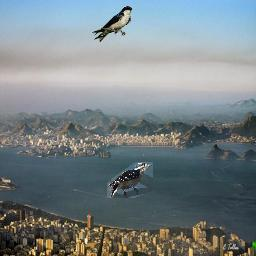Swallow: (91, 6, 132, 42)
Woodpecker: (107, 162, 153, 198)
